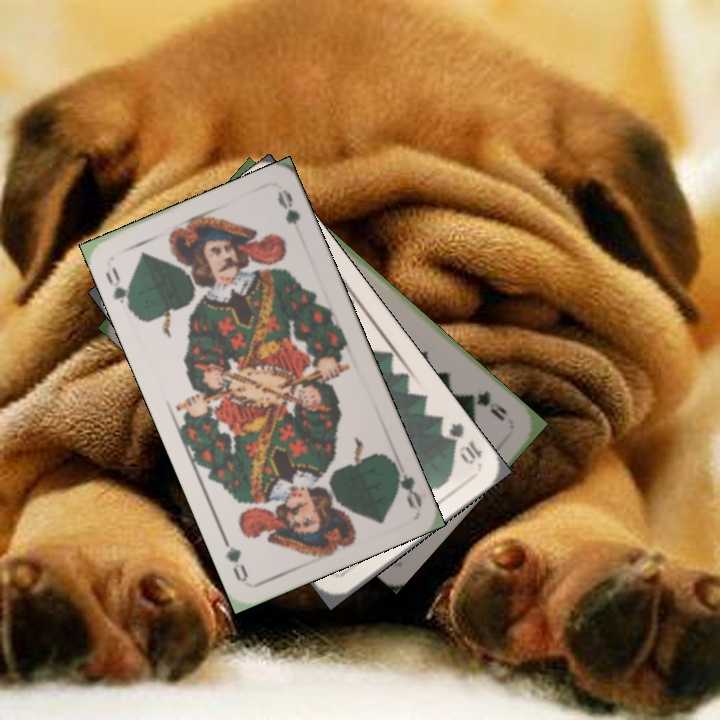G10: (441, 418, 485, 468)
G9: (462, 386, 510, 424)
GO: (386, 455, 425, 511), (101, 262, 135, 315)
